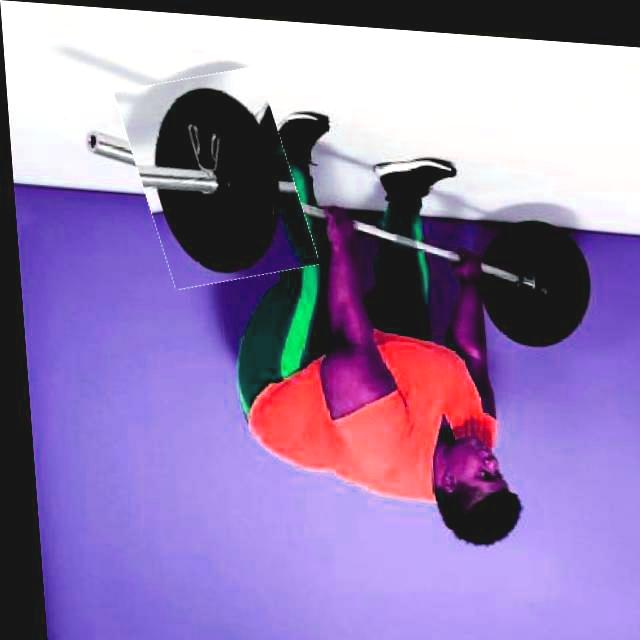barbell: (121, 63, 307, 287)
